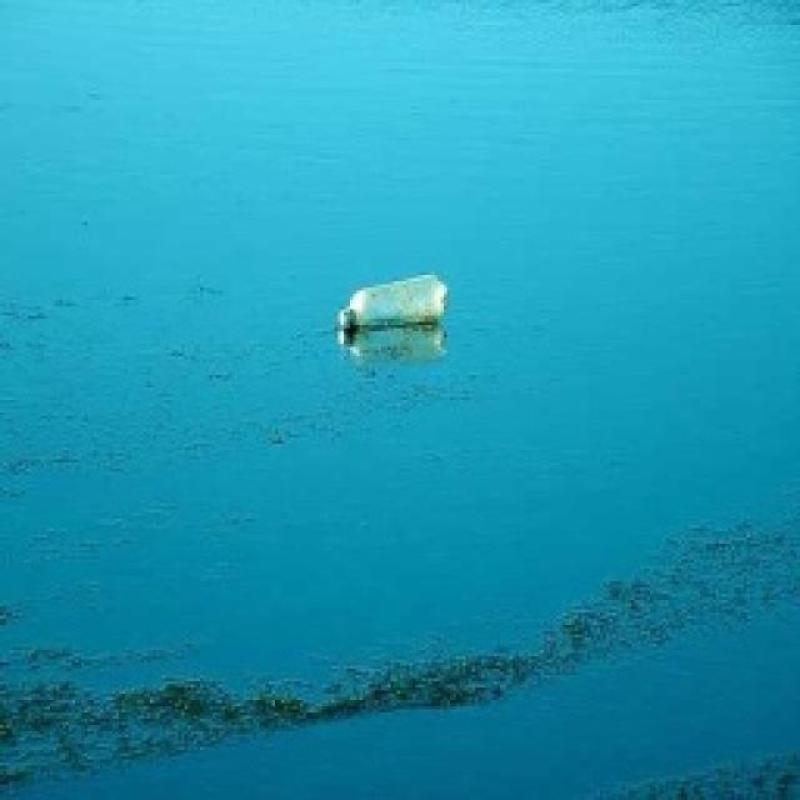botella: (336, 275, 449, 331)
